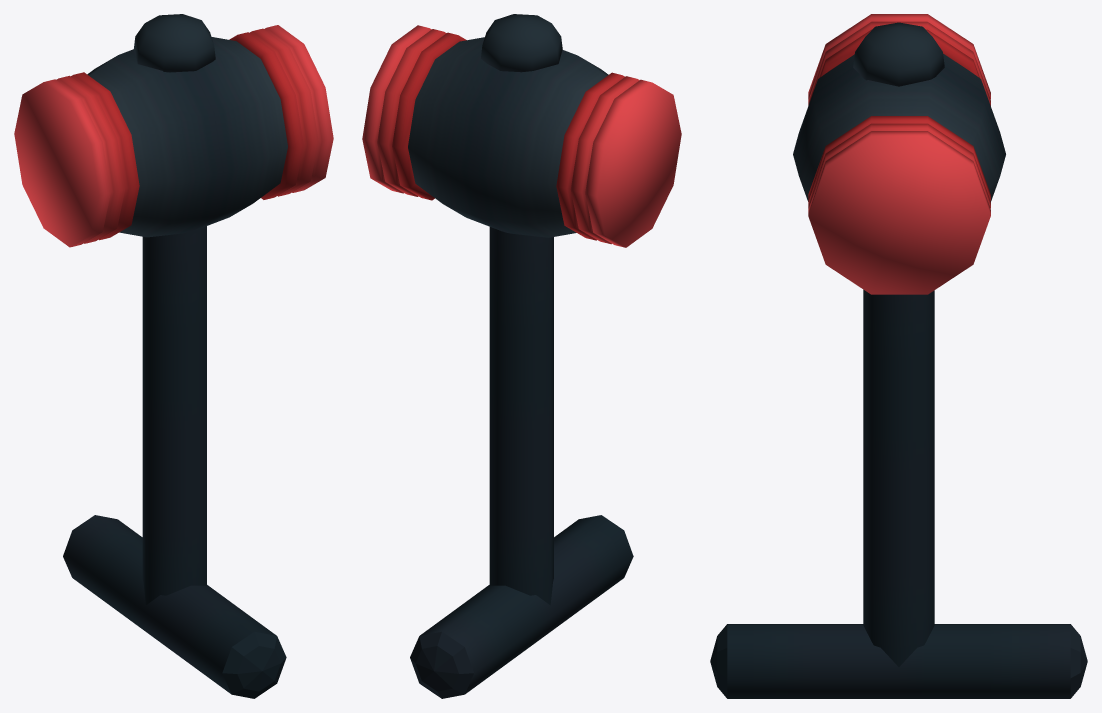
The model's file is Props-Hammer-Hammer.glb.
3 views of the same model, side by side, from view 1: azimuth 30°, elevation 25°; view 2: azimuth 150°, elevation 25°; view 3: azimuth 270°, elevation 25° (orthographic). The views are drawn at different scales.
Parts seen in each view (by area): view 1: Props-Hammer-Hammer; view 2: Props-Hammer-Hammer; view 3: Props-Hammer-Hammer.
Part boxes in pixels (x1,y1,x2,y2): Props-Hammer-Hammer: (14,14,333,698); Props-Hammer-Hammer: (362,14,681,698); Props-Hammer-Hammer: (710,14,1087,698).
Size of the model in its own units: 2.28 by 5.71 by 2.92.
1 material, 1 textured.
